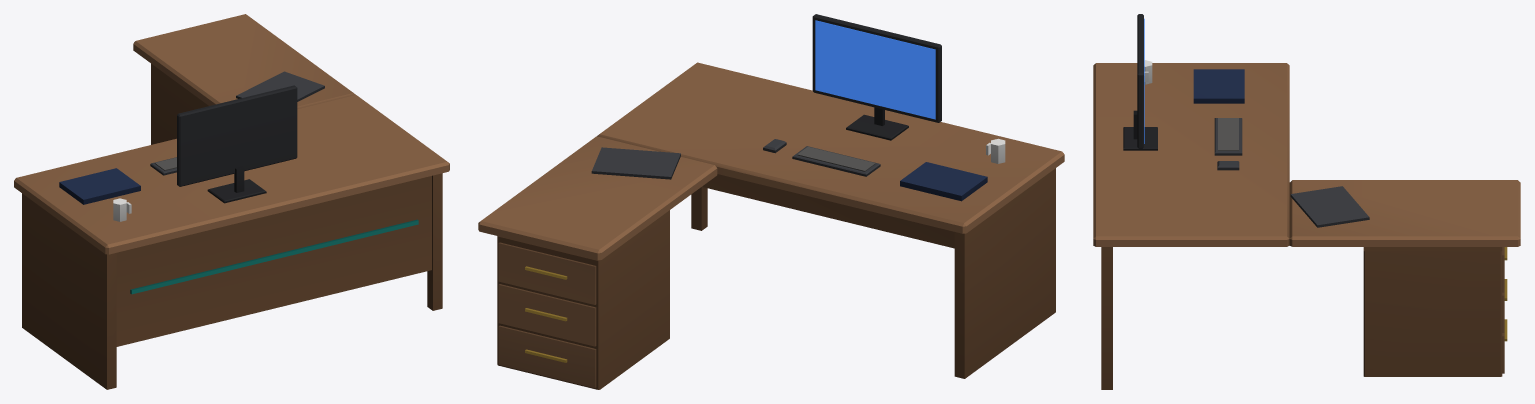
Rendered from desk_manager_01.glb.
3 renders of one model, left to right at view 1: azimuth 30°, elevation 25°; view 2: azimuth 150°, elevation 25°; view 3: azimuth 270°, elevation 25°, orthographic. The views are drawn at different scales.
Visible parts, largest first — view 1: desk_manager_01_mesh; view 2: desk_manager_01_mesh, desk_manager_01_screen; view 3: desk_manager_01_mesh.
Boxes of the visible parts, bbox=[...] form: desk_manager_01_mesh: bbox=[14, 14, 449, 389]; desk_manager_01_mesh: bbox=[478, 14, 1064, 389]; desk_manager_01_screen: bbox=[815, 20, 935, 119]; desk_manager_01_mesh: bbox=[1093, 14, 1520, 389].
Size of the model in its own units: 1.8 by 1.2 by 1.85.
Materials: 2 (2 with a texture image).
